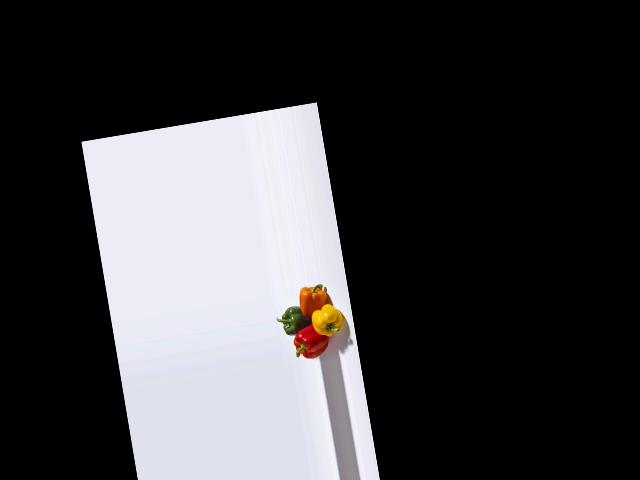bell_pepper: (288, 322, 331, 362)
